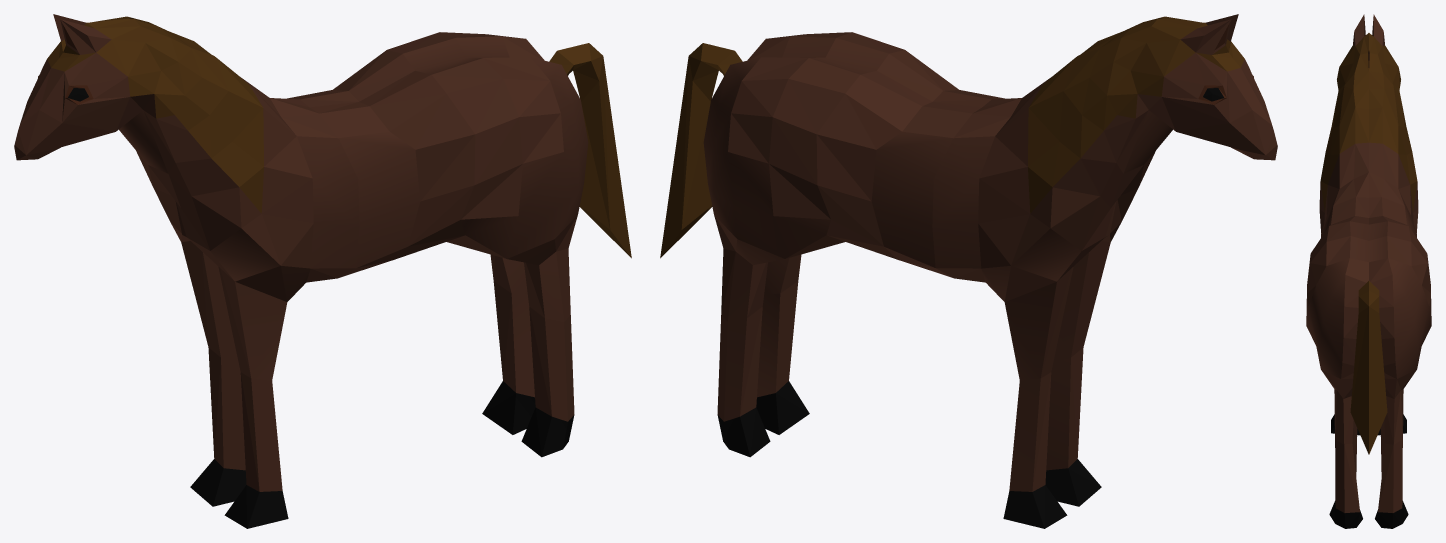
The model's file is Kleeblatt.FBX.
The picture shows the model from 3 angles, left to right: view 1: azimuth 30°, elevation 25°; view 2: azimuth 150°, elevation 25°; view 3: azimuth 270°, elevation 25°; orthographic projection. The views are drawn at different scales.
Visible parts, largest first — view 1: Kleeblatt; view 2: Kleeblatt; view 3: Kleeblatt.
Boxes of the visible parts, left/top/right/bottom form: Kleeblatt: left=14, top=14, right=631, bottom=528; Kleeblatt: left=660, top=14, right=1277, bottom=528; Kleeblatt: left=1306, top=14, right=1431, bottom=528.
Size of the model in its own units: 75.53 by 62.48 by 19.97.
